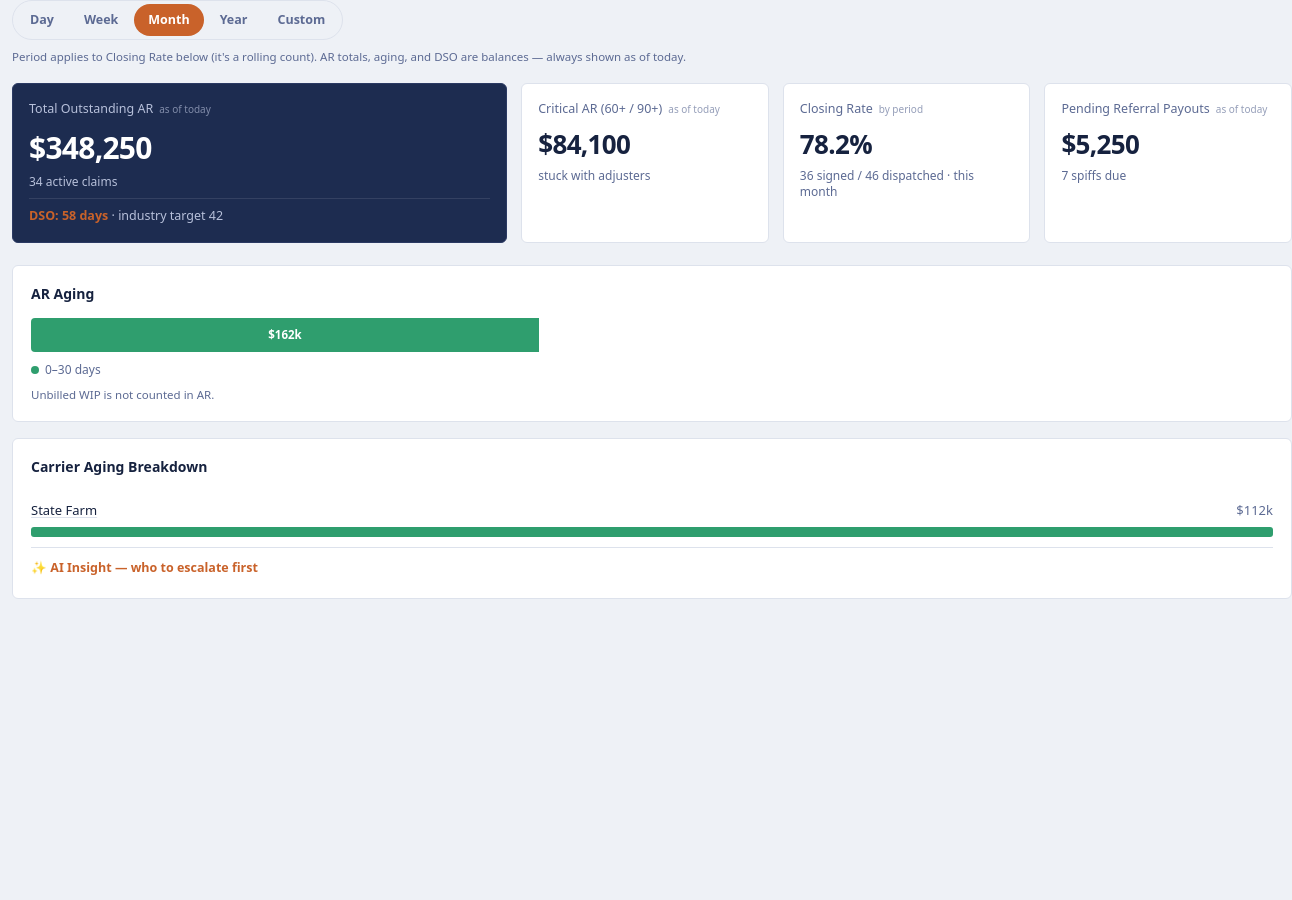
Test case: ExecutiveView › reveals a custom date range picker and hides it again when switching back
This screenshot has width=1292, height=900.
expect the field labelled "from" is not shown: met
Click the button "Custom".
click(301, 20)  # box left=264, top=4, right=339, bottom=36
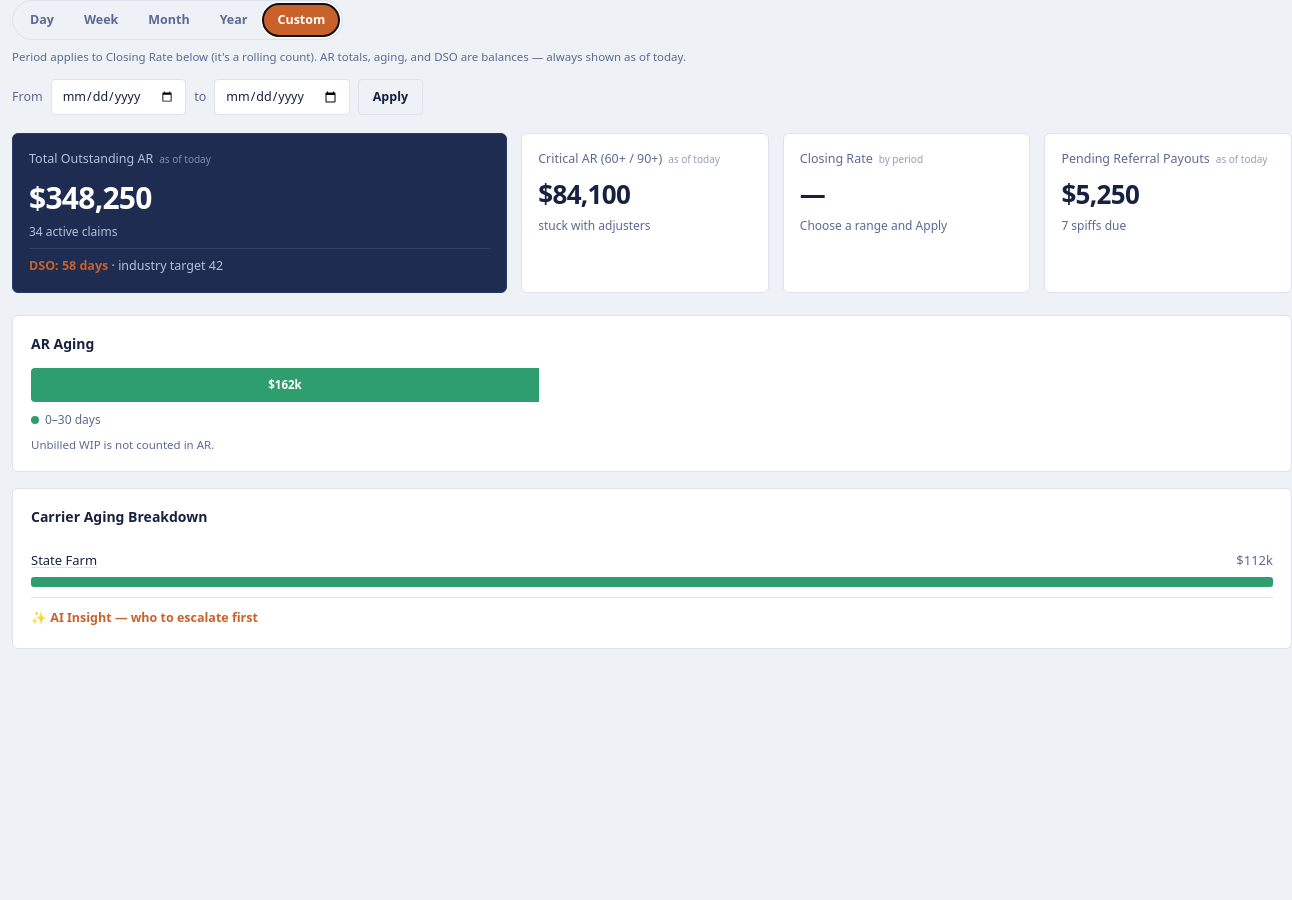
expect the date field labelled "From" is shown: met, box left=51, top=79, right=186, bottom=115
Click the button "Month".
click(169, 20)  # box left=134, top=4, right=204, bottom=36
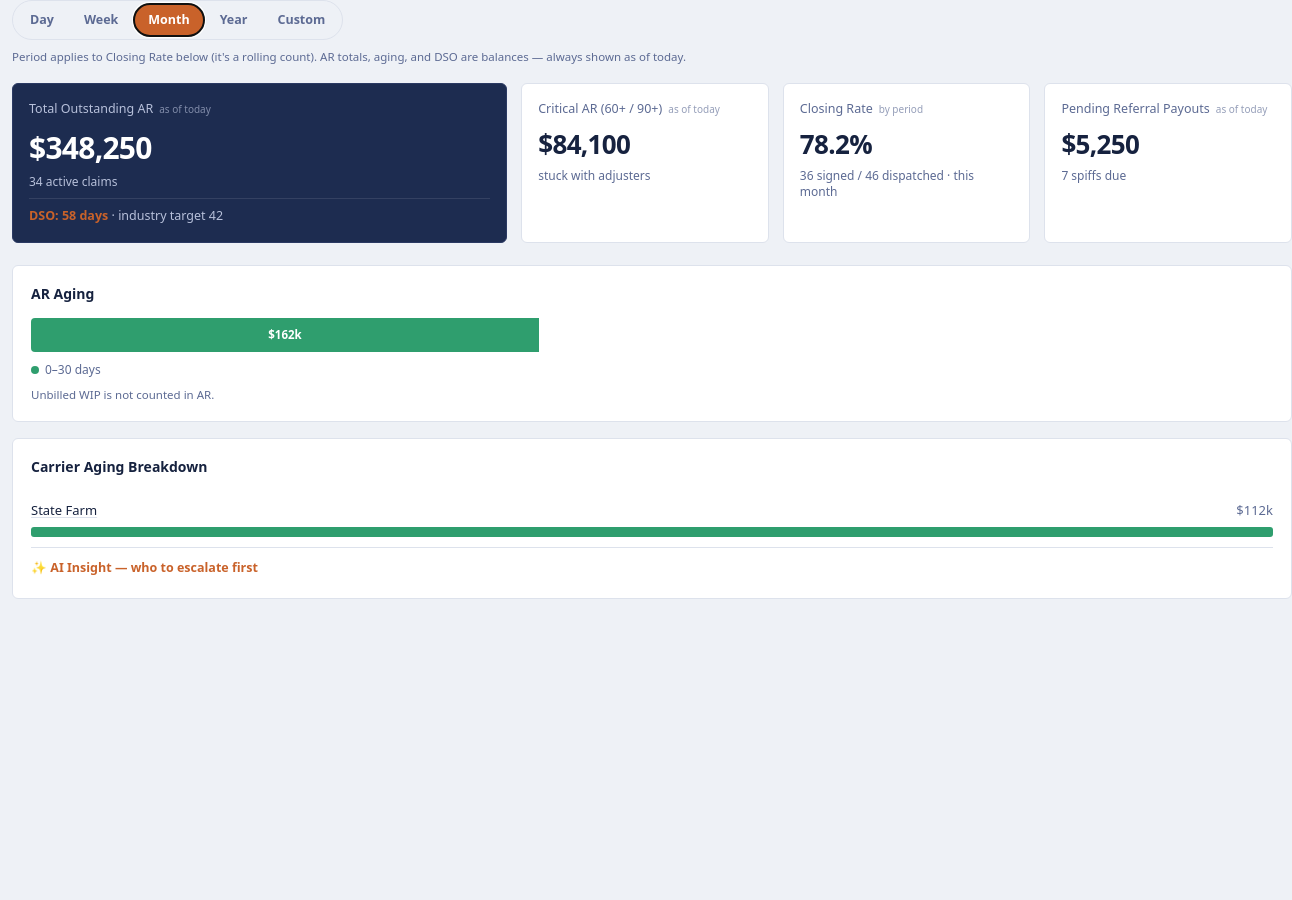
expect the label labelled "From" is gone: met
